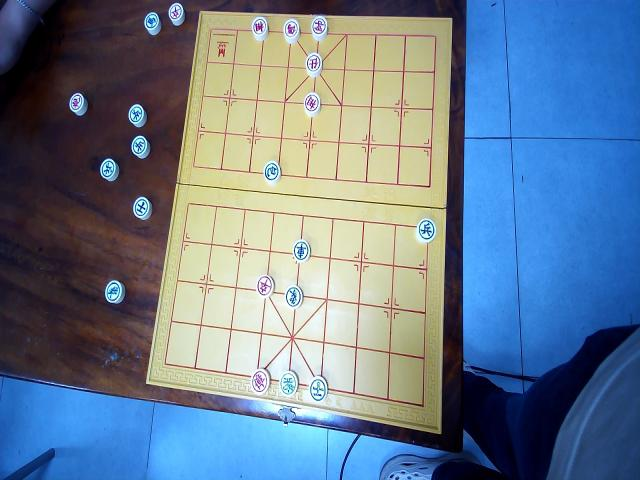piece: (416, 217, 436, 244), (105, 279, 125, 305), (132, 195, 152, 221), (250, 369, 270, 395), (309, 375, 327, 403), (310, 15, 328, 41), (167, 1, 185, 27), (292, 238, 310, 264), (280, 370, 298, 396), (100, 157, 118, 182), (263, 160, 281, 185), (303, 92, 321, 117), (304, 52, 322, 77), (131, 134, 149, 159), (250, 16, 268, 41), (283, 18, 300, 44), (69, 92, 87, 116), (128, 104, 146, 128), (256, 275, 274, 299), (143, 11, 161, 35), (285, 285, 302, 309)
